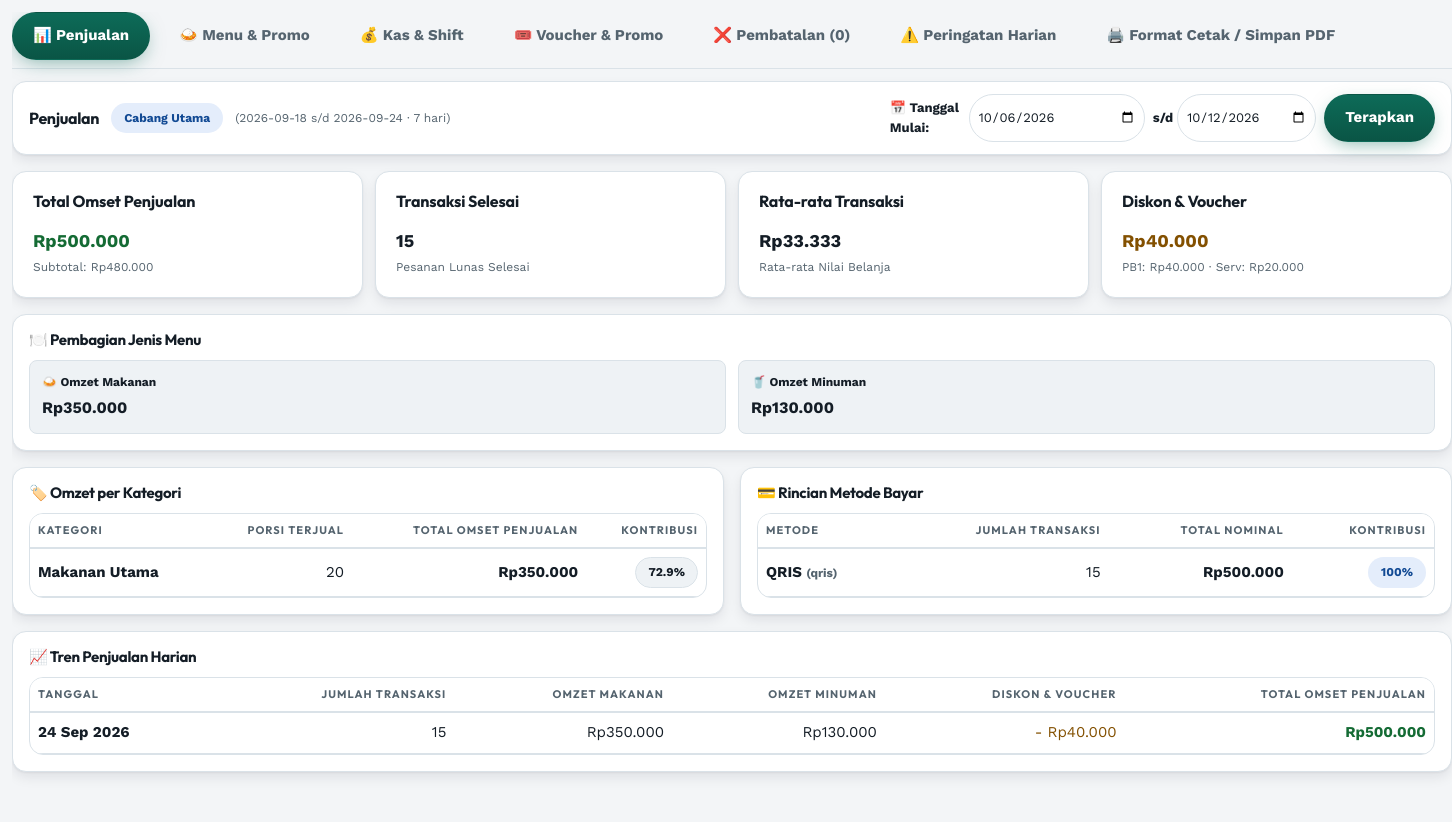
Test: LayarLaporan › dapat berpindah ke tab Voucher & Promo dan menampilkan dasbor voucher
This screenshot has width=1452, height=822.
Step 1. Click the button "🎟️ Voucher & Promo" → (589, 36), box [493,12,684,60]
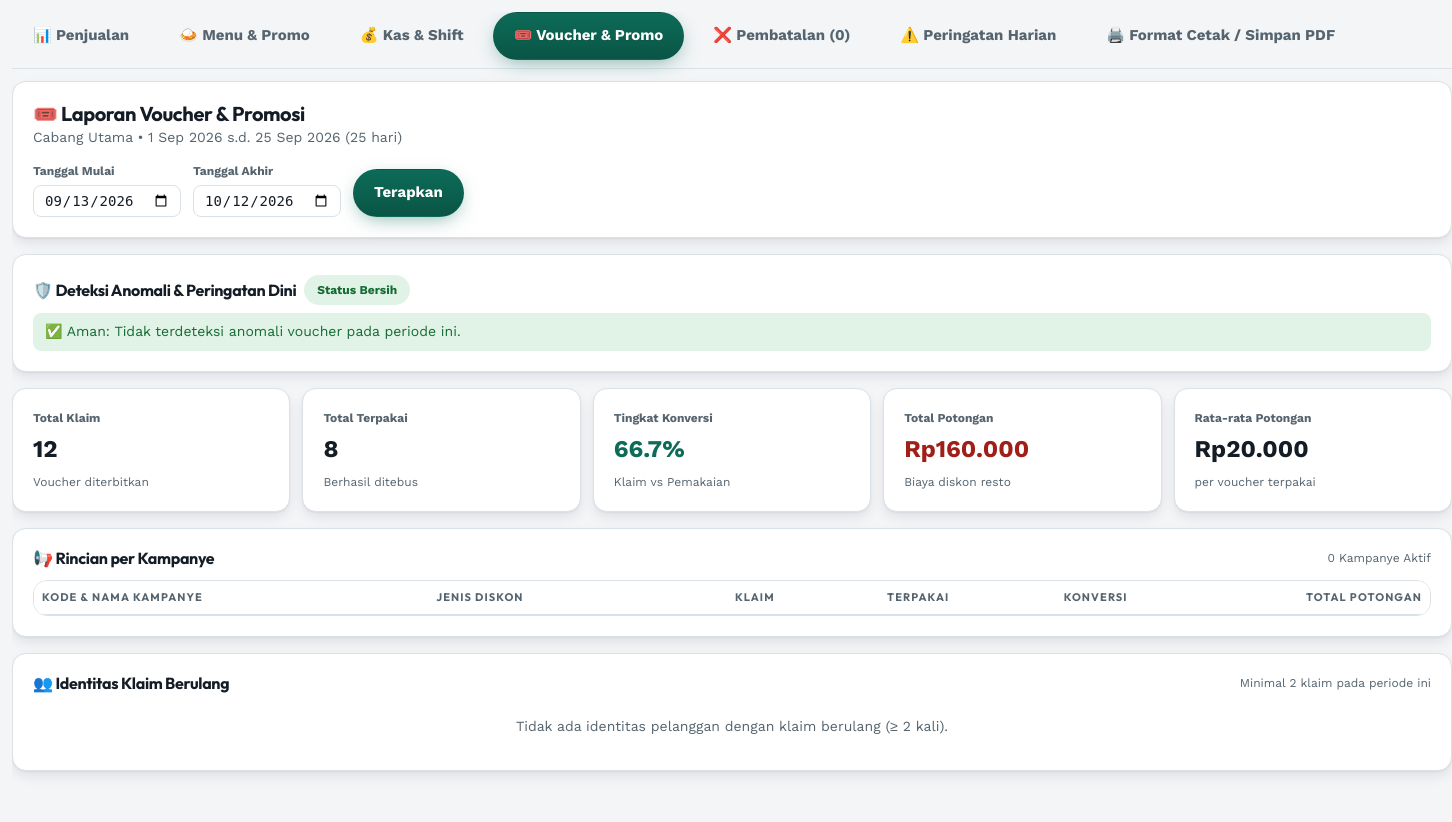
Expected: the heading "🎟️ Laporan Voucher & Promosi" is shown, [33,101,305,126]
Expected: the text "Rp160.000" is shown, [904,436,1029,464]
Expected: the text "66.7%" is shown, [614,436,685,464]
